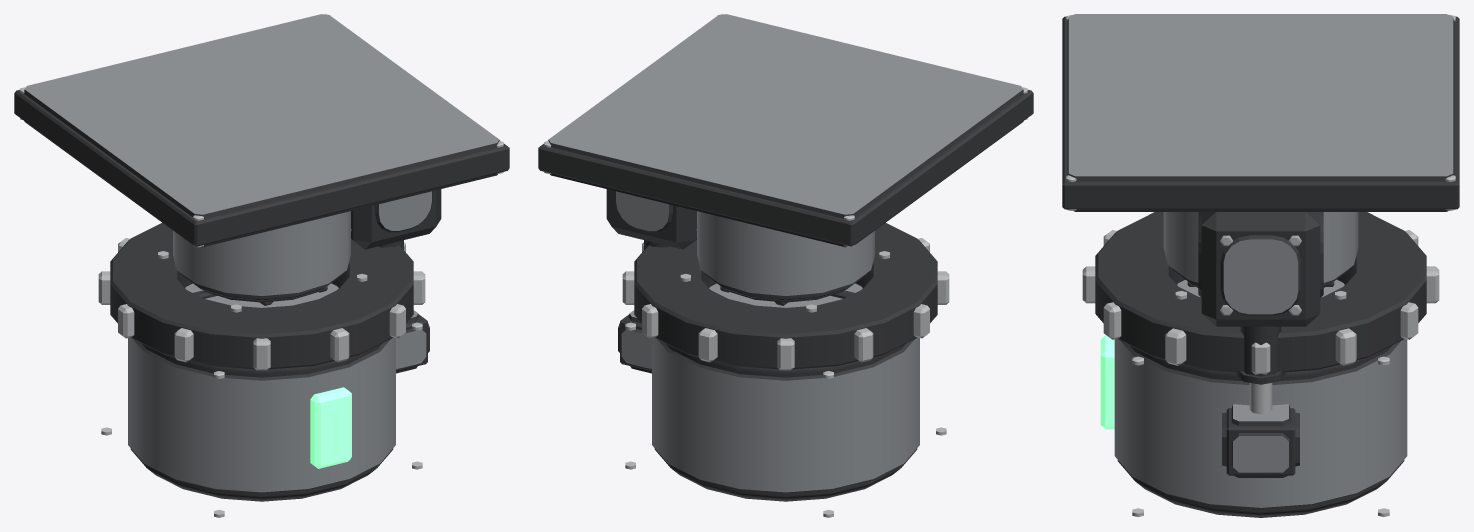
File: R4X_IndependentSteering.fbx
The picture shows the model from 3 angles, left to right: view 1: azimuth 30°, elevation 25°; view 2: azimuth 150°, elevation 25°; view 3: azimuth 270°, elevation 25°; orthographic projection. The views are drawn at different scales.
Parts seen in each view (by area): view 1: R4X_IndependentSteering_Body, R4X_IndependentSteering_Turntable; view 2: R4X_IndependentSteering_Body, R4X_IndependentSteering_Turntable; view 3: R4X_IndependentSteering_Body, R4X_IndependentSteering_Turntable.
Part boxes in pixels (<box>): R4X_IndependentSteering_Body: <box>14,14,509,370</box>; R4X_IndependentSteering_Turntable: <box>101,283,429,517</box>; R4X_IndependentSteering_Body: <box>538,14,1033,370</box>; R4X_IndependentSteering_Turntable: <box>618,283,946,517</box>; R4X_IndependentSteering_Body: <box>1062,14,1459,414</box>; R4X_IndependentSteering_Turntable: <box>1100,279,1407,517</box>.
Bounding box in the file's own units: 0.514 × 0.52 × 0.508.
